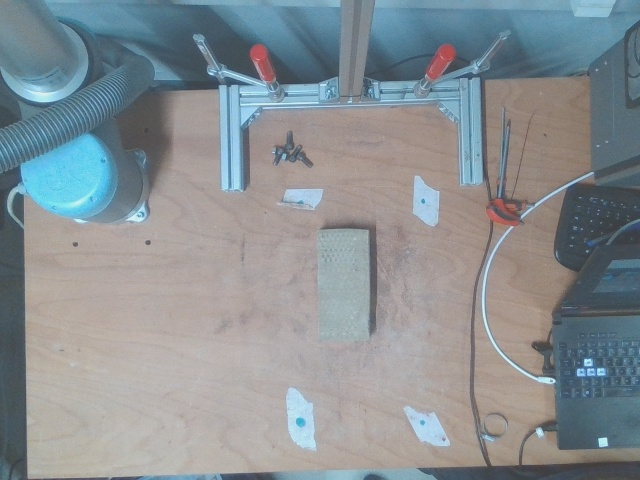brick: (319, 232, 367, 339)
